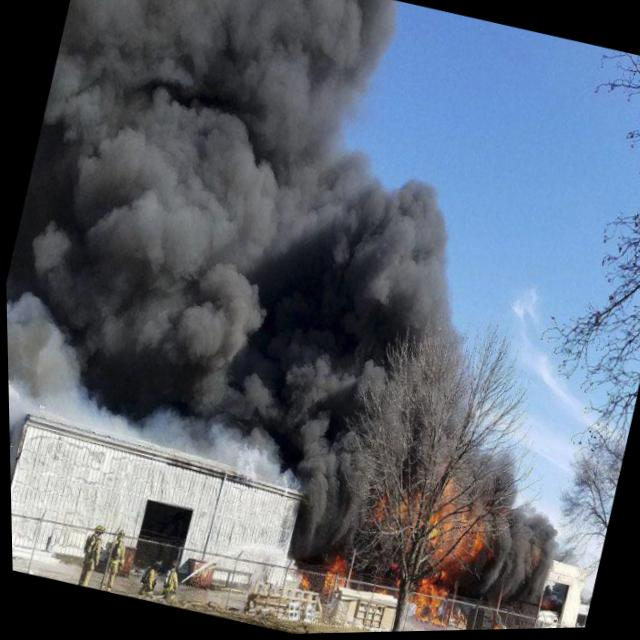fire: (415, 481, 498, 584), (401, 573, 452, 632), (312, 551, 358, 605), (389, 486, 424, 535), (368, 490, 389, 526), (287, 568, 313, 595), (486, 623, 498, 632)
